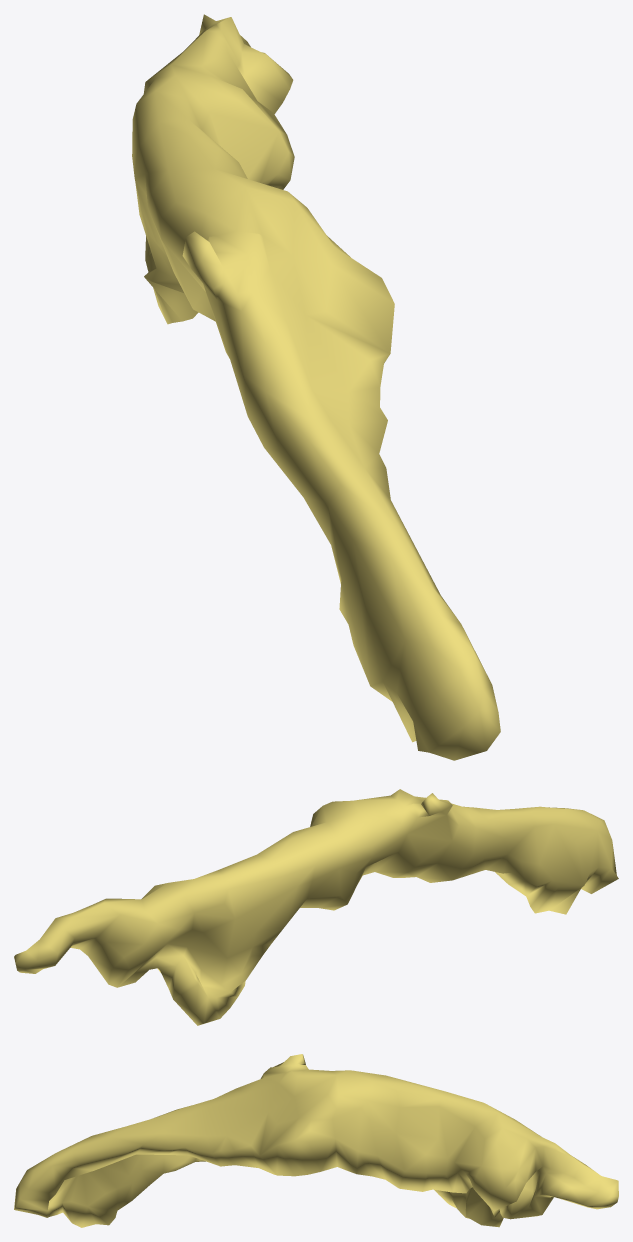
Rendered from collateral-sulcus-r.glb.
The picture shows the model from 3 angles, top to bottom: view 1: azimuth 30°, elevation 25°; view 2: azimuth 150°, elevation 25°; view 3: azimuth 270°, elevation 25°; orthographic projection. The views are drawn at different scales.
Parts seen in each view (by area): view 1: Collateral sulcus.r; view 2: Collateral sulcus.r; view 3: Collateral sulcus.r.
Part boxes in pixels (box(x1,y1,x2,y2)): Collateral sulcus.r: box(132, 14, 500, 760); Collateral sulcus.r: box(14, 789, 618, 1025); Collateral sulcus.r: box(14, 1054, 618, 1227).
Size of the model in its own units: 0.0318 by 0.0264 by 0.083.
